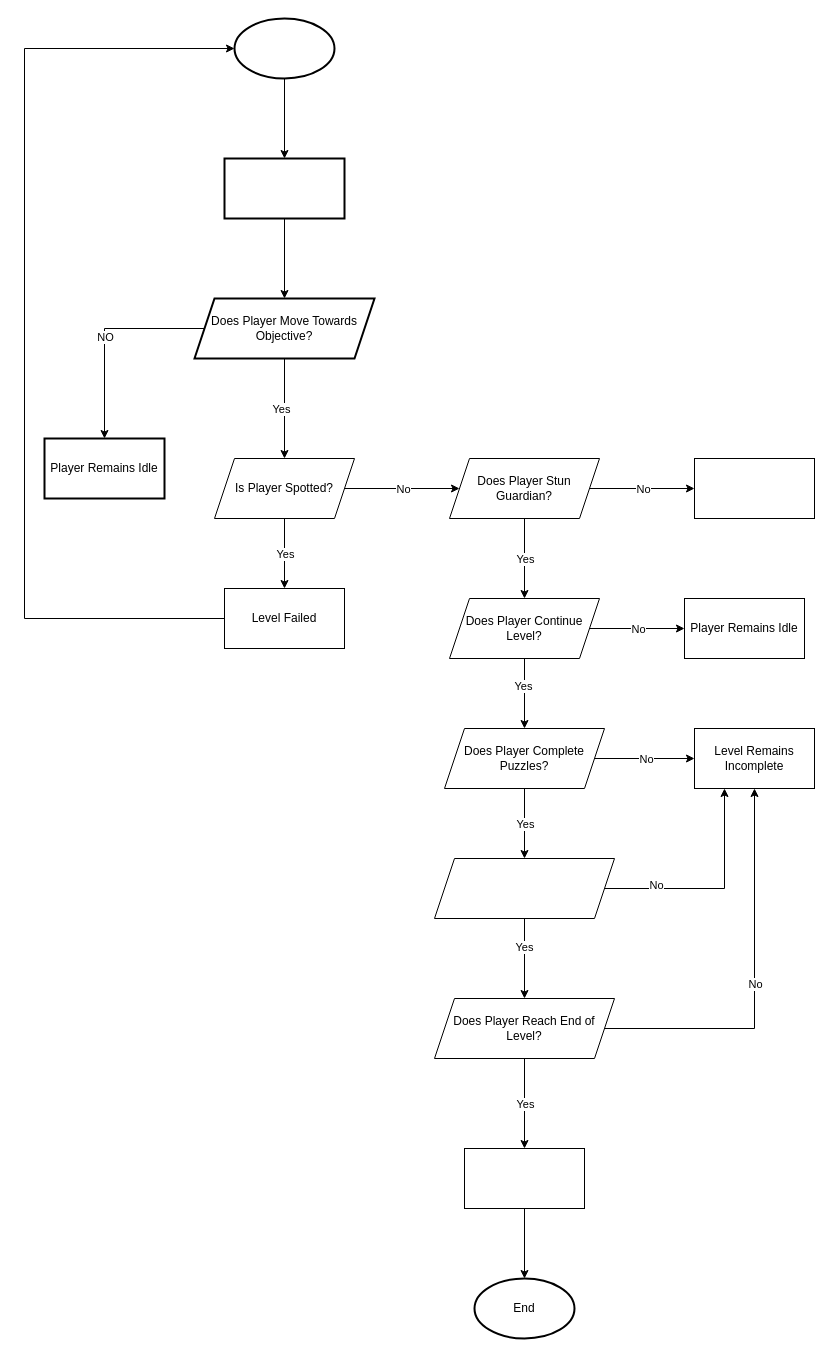
The diagram is 832 pixels wide and 1356 high, and some of its shapes have lost their labels. Each missing label, with the centre of its shape:
Does Player Collect Ancient Shard?: the point at 524,888
GuardianContinues Roaming: the point at 754,488
Levle is Complete: the point at 524,1178
Playe Enters Level: the point at 284,188
Start: the point at 284,48
